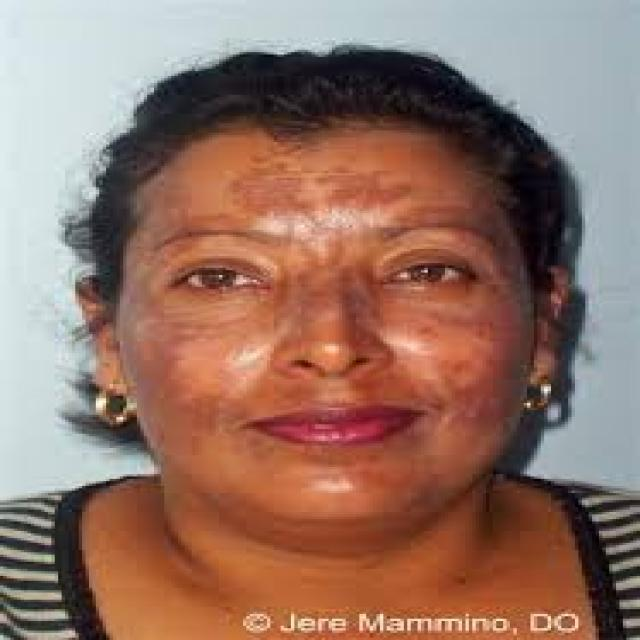pigmentation: (224, 166, 410, 214)
